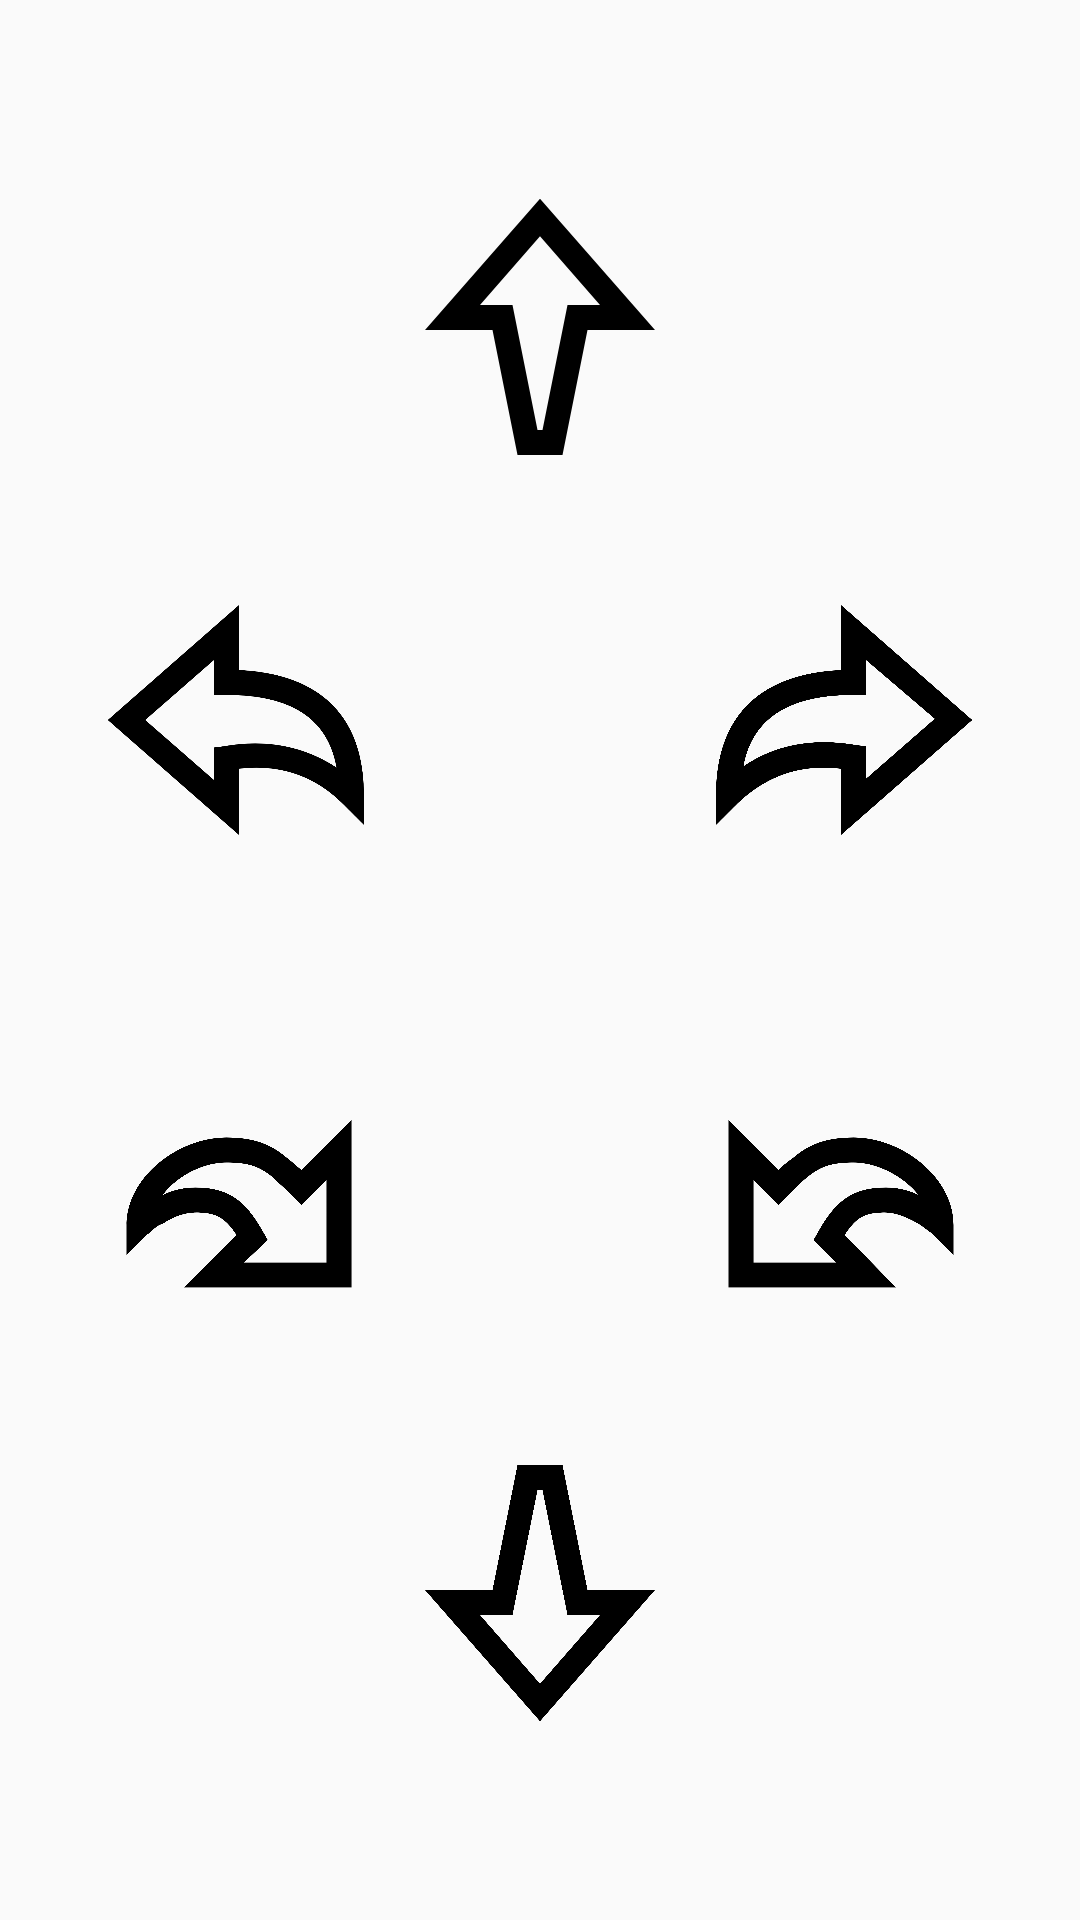

Named icons in this screenshot (1080 x 1920) and their bounding boxes, {"x1": x1, "y1": y1, "x2": x2, "y2": y2}:
arrow: {"x1": 425, "y1": 199, "x2": 655, "y2": 455}, {"x1": 108, "y1": 605, "x2": 364, "y2": 835}, {"x1": 716, "y1": 605, "x2": 972, "y2": 835}, {"x1": 126, "y1": 1120, "x2": 352, "y2": 1288}, {"x1": 728, "y1": 1120, "x2": 954, "y2": 1288}, {"x1": 425, "y1": 1465, "x2": 655, "y2": 1721}
